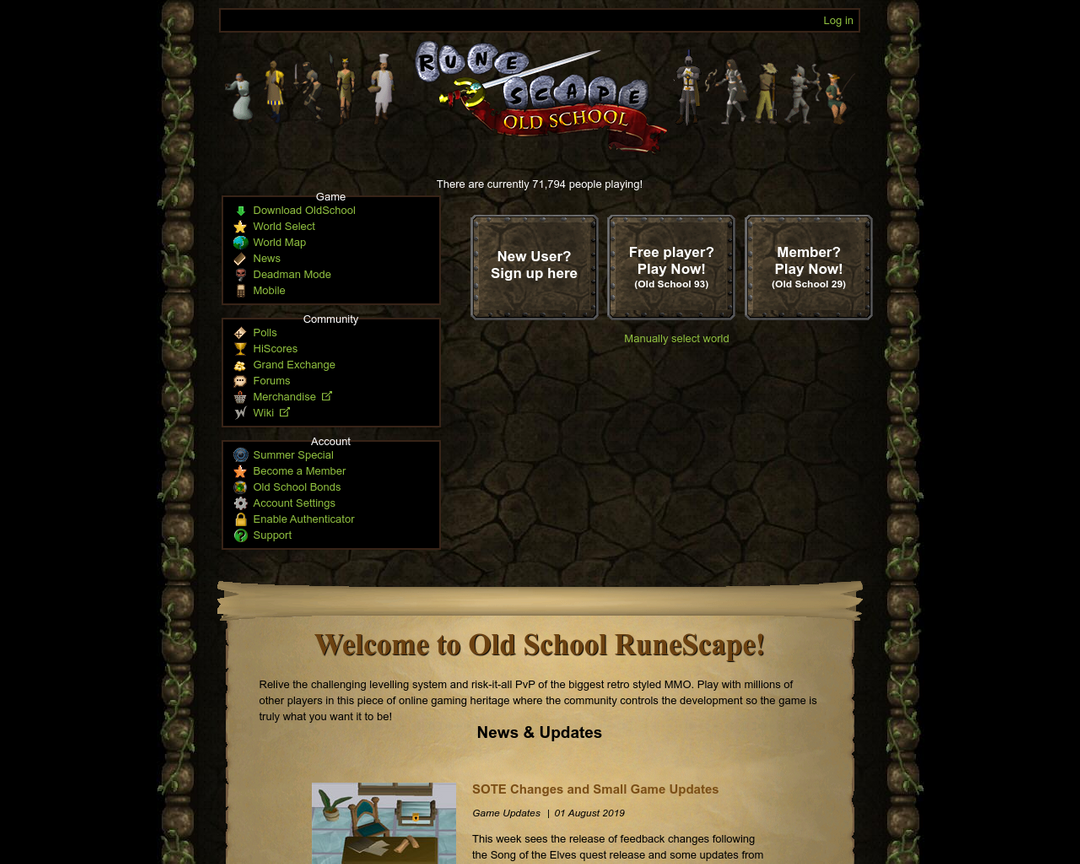Runescape: (407, 41, 666, 145)
